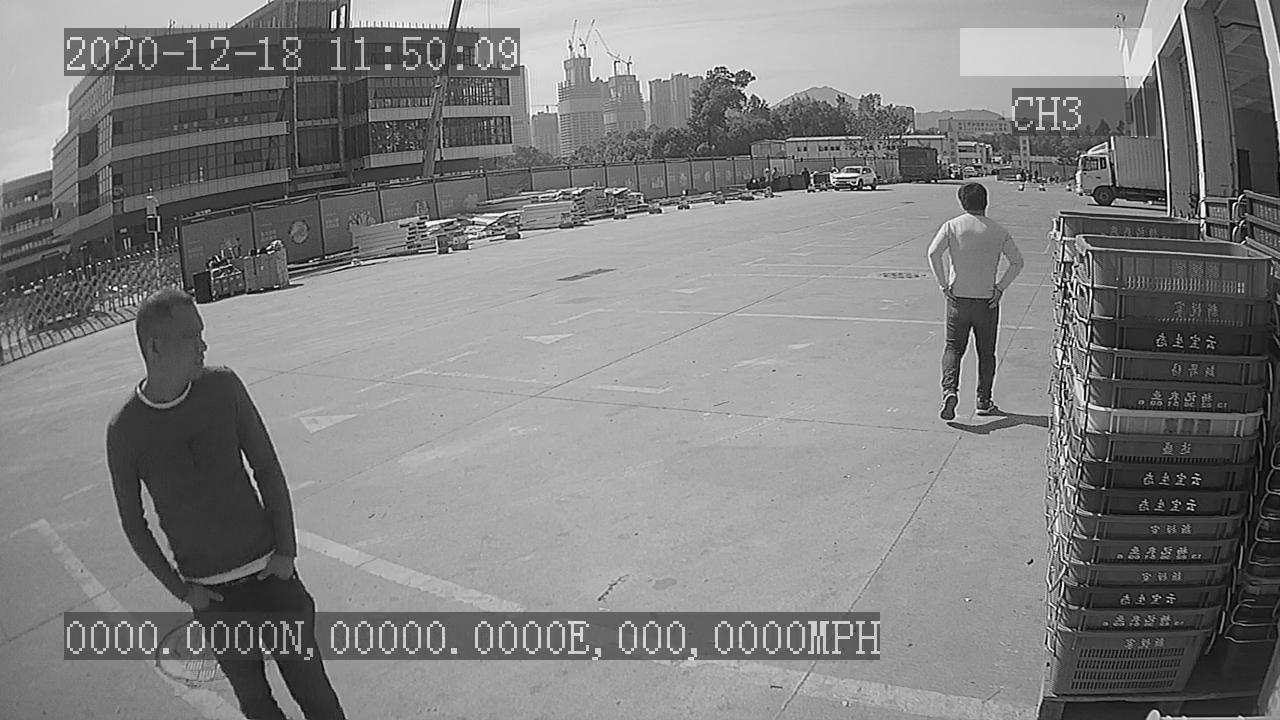person: (917, 179, 1029, 426)
